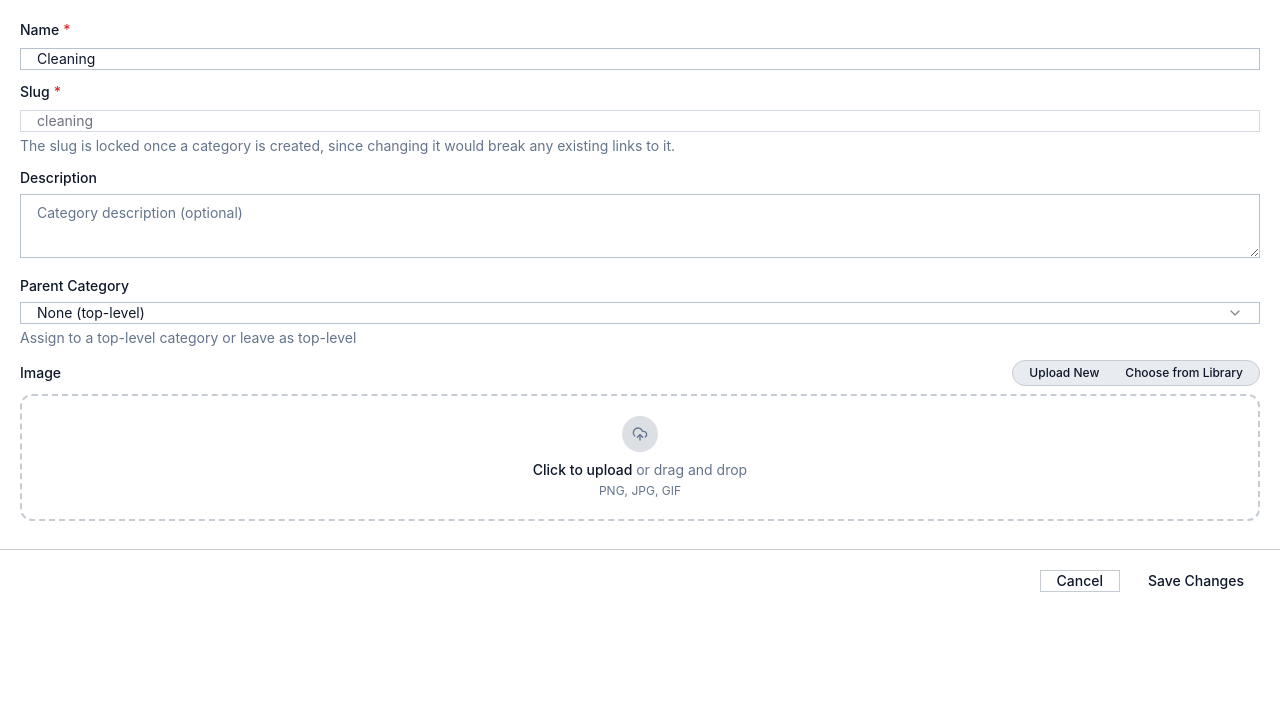
it: CategoryForm parent picker (searchable) › excludes the category being edited from the options
What coordinates should you click on to do the following:
click the button named "Parent Category"
I would click on:
 (91, 312)
Its box is [20, 302, 1260, 324].
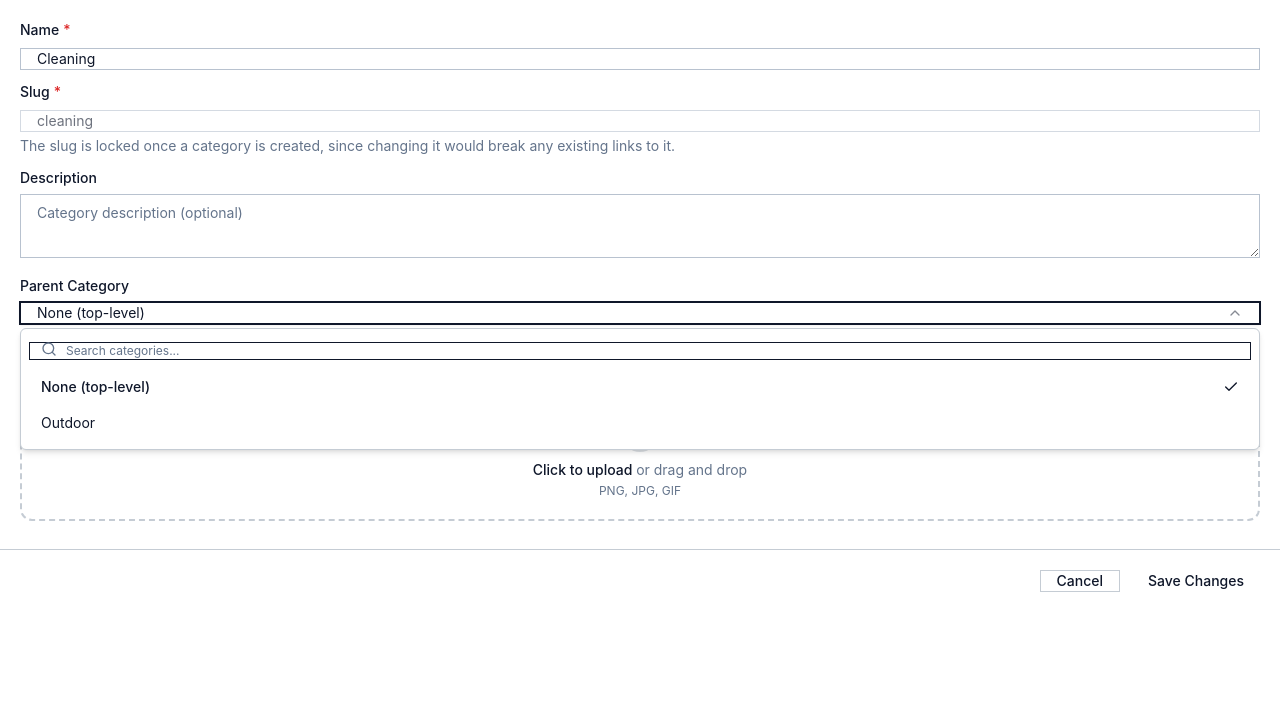
Expected: the options read "None (top-level)", "Outdoor", in this order, [41, 378, 1239, 395]; [41, 414, 95, 431]
